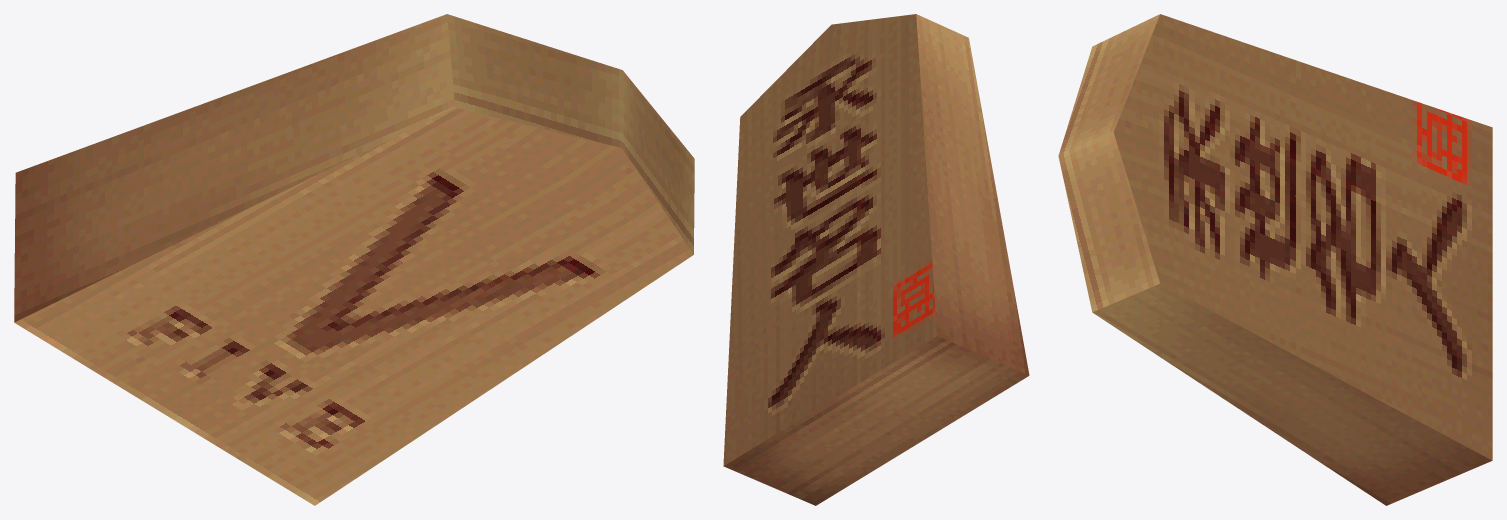
The model's file is ps2_save-icons_eiseimeijinv.glb.
3 renders of one model, left to right at view 1: azimuth 30°, elevation 25°; view 2: azimuth 150°, elevation 25°; view 3: azimuth 270°, elevation 25°, orthographic. The views are drawn at different scales.
Parts seen in each view (by area): view 1: icon_1; view 2: icon_1; view 3: icon_1.
Part boxes in pixels (left/top/right/bottom): icon_1: left=14, top=14, right=694, bottom=505; icon_1: left=723, top=14, right=1029, bottom=505; icon_1: left=1058, top=14, right=1492, bottom=505.
Bounding box in the file's own units: 3.8 × 3.96 × 3.18.
1 material, 1 textured.
